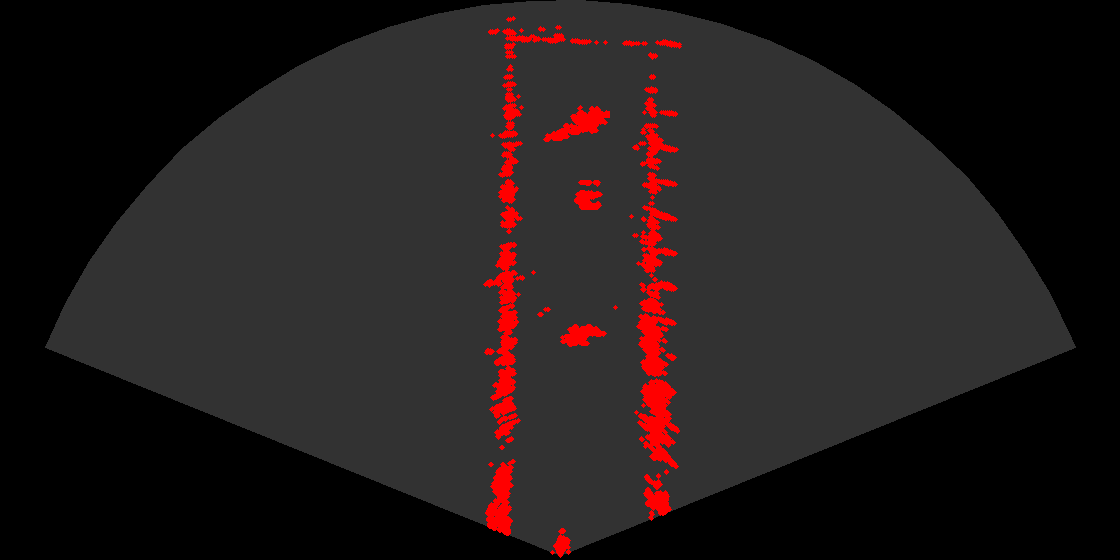AUV: (554, 322, 610, 354)
ball: (554, 172, 614, 213)
frogman: (542, 99, 610, 146)
